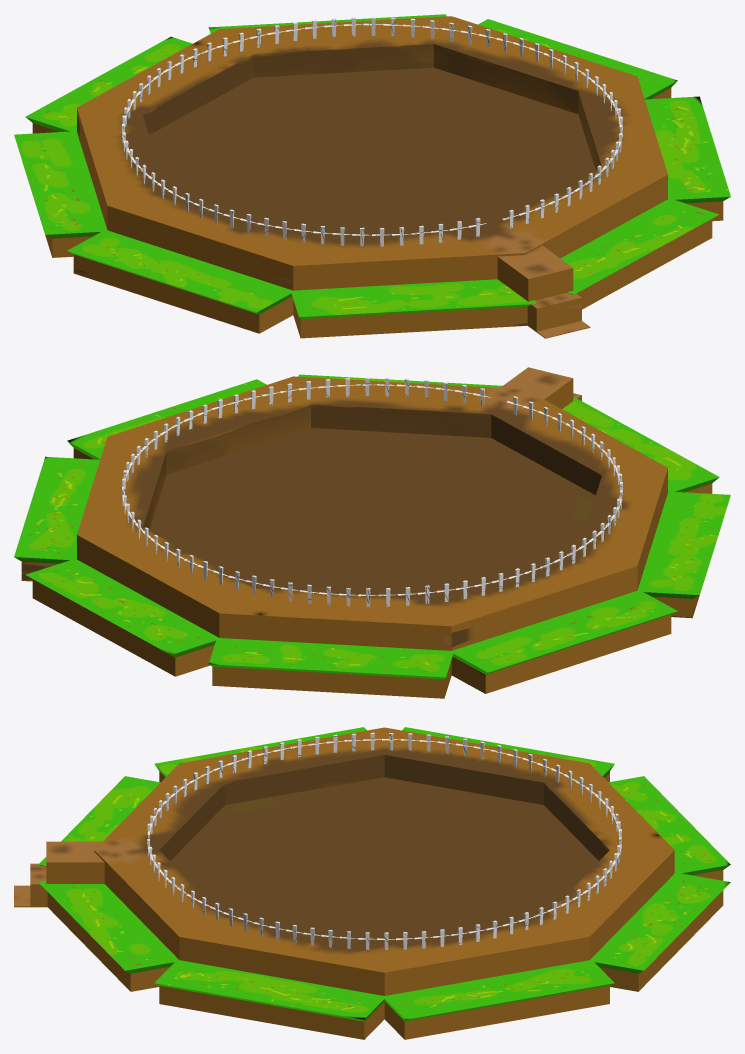
Rendered from lake_chesburg.glb.
3 views of the same model, one above another, from view 1: azimuth 30°, elevation 25°; view 2: azimuth 150°, elevation 25°; view 3: azimuth 270°, elevation 25° (orthographic). The views are drawn at different scales.
Visible parts, largest first — view 1: lake; view 2: lake; view 3: lake.
Boxes of the visible parts, x1,y1,x2,y2 form: lake: (14, 14, 730, 338); lake: (14, 367, 730, 698); lake: (14, 727, 730, 1039).
Size of what is drawn, in the model's own units: 28.04 by 2.84 by 29.02.
1 material, 1 textured.
